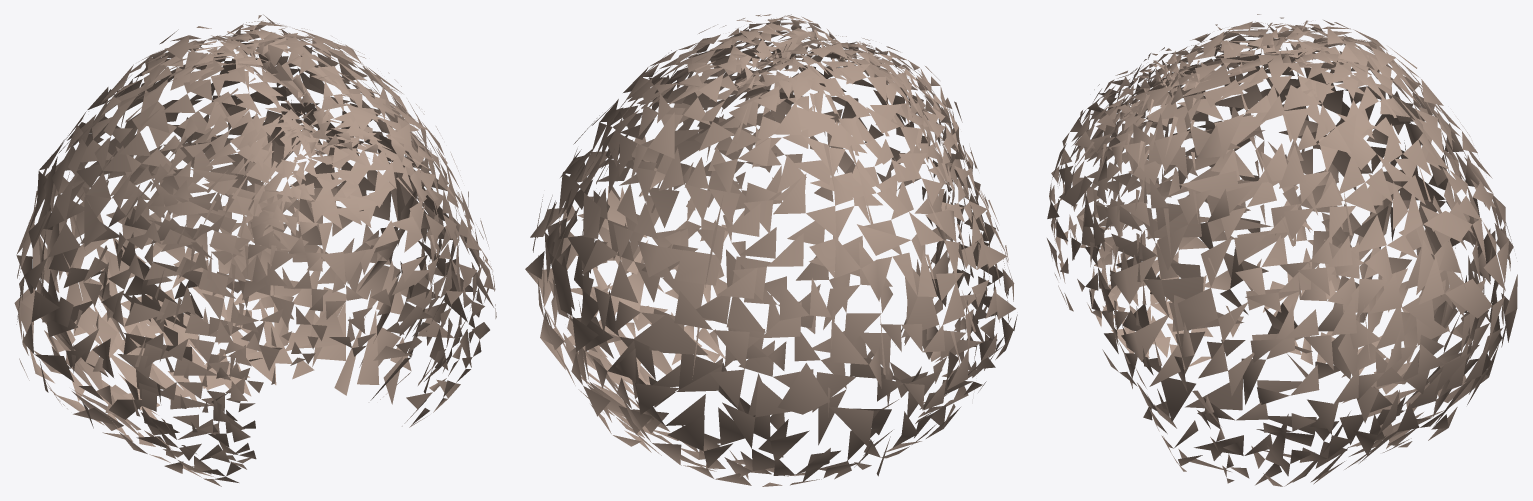
The model's file is female_hair_08_lod1.glb.
3 views of the same model, side by side, from view 1: azimuth 30°, elevation 25°; view 2: azimuth 150°, elevation 25°; view 3: azimuth 270°, elevation 25° (orthographic).
Visible parts, largest first — view 1: female-hair-08; view 2: female-hair-08; view 3: female-hair-08.
Part boxes in pixels (x1,y1,x2,y2): female-hair-08: [14, 14, 496, 486]; female-hair-08: [525, 14, 1017, 486]; female-hair-08: [1047, 14, 1517, 486].
Bounding box in the file's own units: 0.2366 × 0.2099 × 0.2265.
